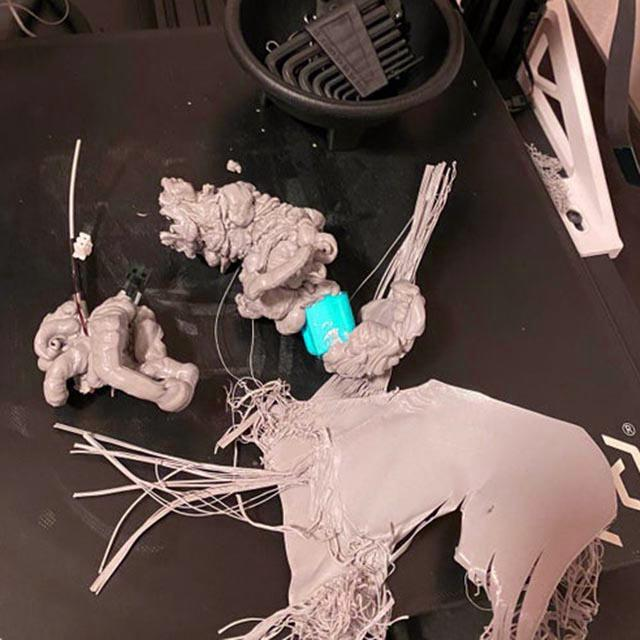Spaghetti: (259, 522, 410, 639), (538, 538, 604, 640), (223, 376, 310, 443)
